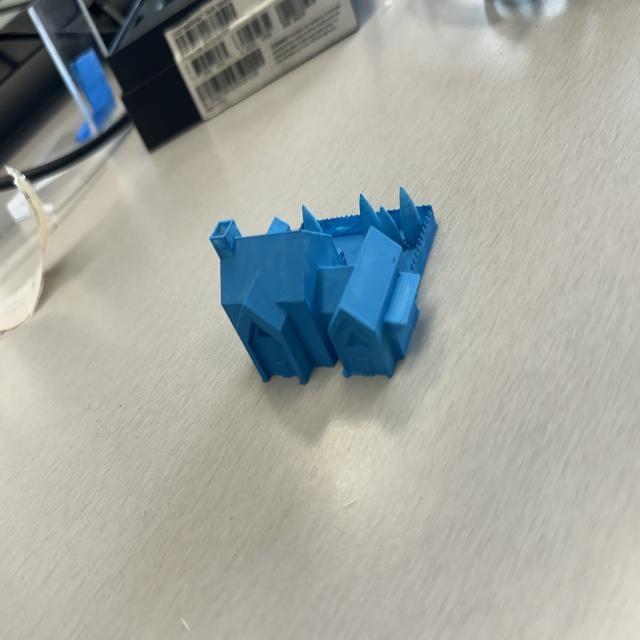house: (209, 186, 439, 385)
